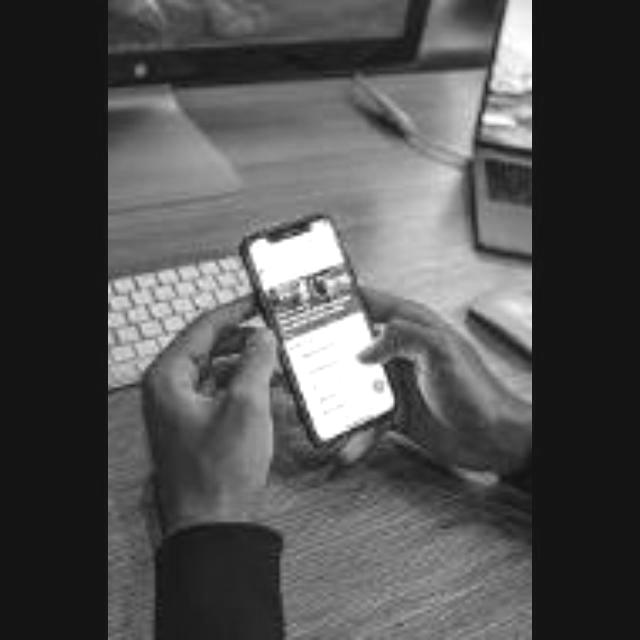fake: (211, 211, 439, 466)
